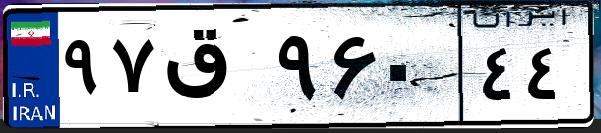0: (385, 28, 445, 110)
4: (475, 38, 525, 113), (525, 38, 570, 115)
6: (330, 28, 385, 110)
7: (110, 28, 158, 98)
9: (270, 28, 330, 110), (57, 26, 110, 100)
ق: (158, 20, 270, 120)
